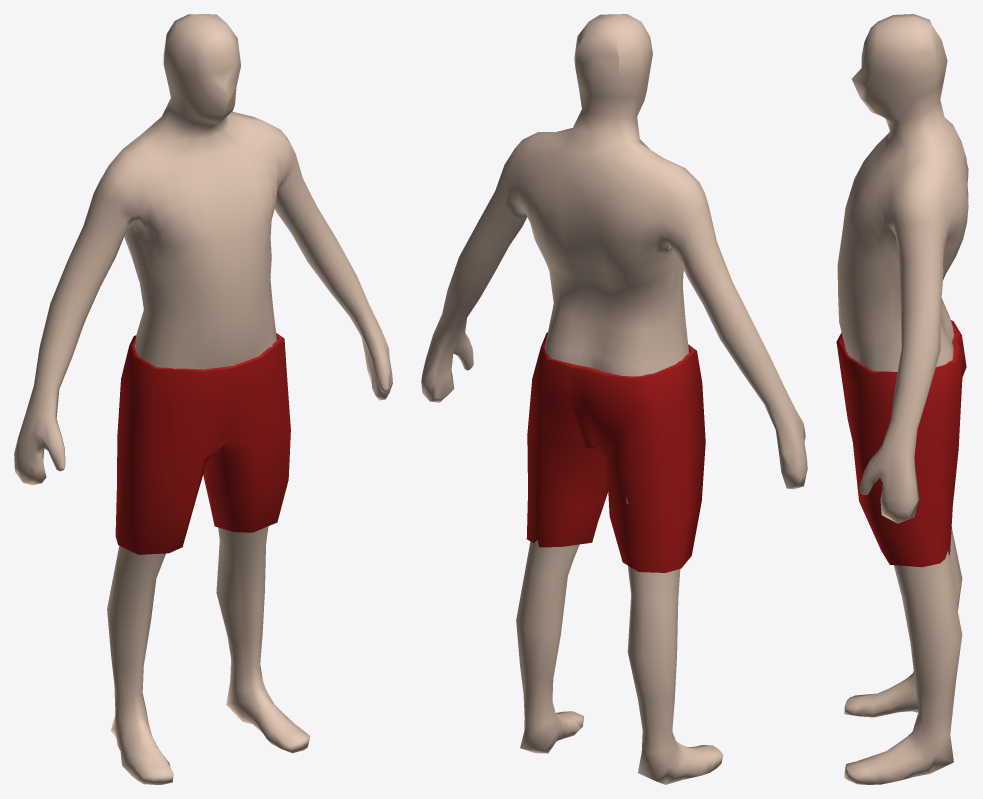
Rendered from baigneur homme.fbx.
3 views of the same model, side by side, from view 1: azimuth 30°, elevation 25°; view 2: azimuth 150°, elevation 25°; view 3: azimuth 270°, elevation 25° (orthographic). The views are drawn at different scales.
Parts seen in each view (by area): view 1: baigneur_homme; view 2: baigneur_homme; view 3: baigneur_homme.
Boxes of the visible parts, <box> form: baigneur_homme: <box>14,14,392,784</box>; baigneur_homme: <box>421,14,807,784</box>; baigneur_homme: <box>836,14,968,784</box>.
Bounding box in the file's own units: 96.38 × 181 × 29.74.
